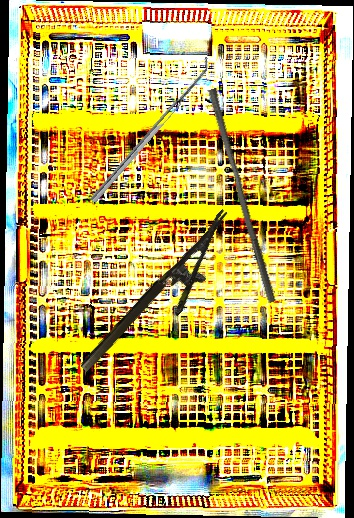Needle Holder: (78, 208, 252, 392)
Pusher: (200, 87, 285, 304)
Spatula Surgical: (84, 55, 216, 204)
